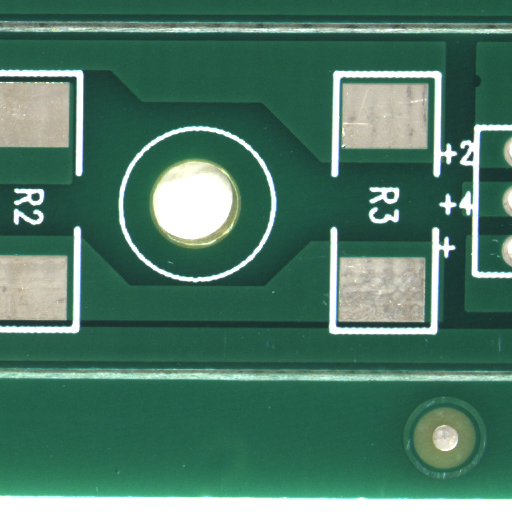Mouse_bite: (478, 81, 486, 96)
